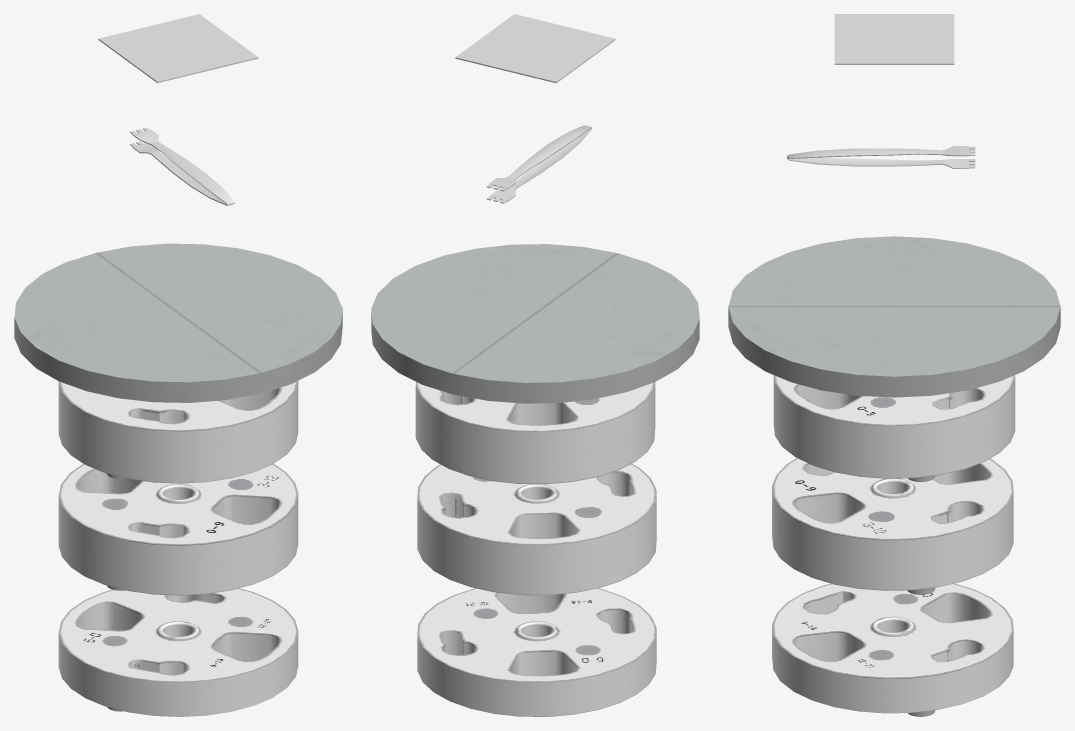
The picture shows the model from 3 angles, left to right: view 1: azimuth 30°, elevation 25°; view 2: azimuth 150°, elevation 25°; view 3: azimuth 270°, elevation 25°; orthographic projection.
Visible parts, largest first — view 1: Pan01, 60, 09, 03, Panel, Tongs; view 2: Pan01, 60, 09, 03, Panel, Tongs; view 3: Pan01, 60, 09, 03, Panel, Tongs.
Boxes of the visible parts, x1,y1,x2,y2 form: Pan01: [14, 243, 342, 402]; 60: [58, 588, 298, 716]; 09: [58, 464, 298, 595]; 03: [58, 381, 298, 483]; Panel: [98, 14, 258, 83]; Tongs: [130, 127, 234, 205]; Pan01: [371, 244, 699, 403]; 60: [417, 588, 656, 716]; 09: [417, 464, 656, 595]; 03: [415, 382, 655, 484]; Panel: [455, 14, 615, 83]; Tongs: [486, 125, 591, 203]; Pan01: [728, 236, 1060, 397]; 60: [772, 583, 1013, 716]; 09: [772, 458, 1013, 594]; 03: [773, 375, 1015, 482]; Panel: [834, 14, 954, 64]; Tongs: [787, 146, 975, 168].
Bounding box in the file's own units: 22.96 × 48.61 × 22.96.
